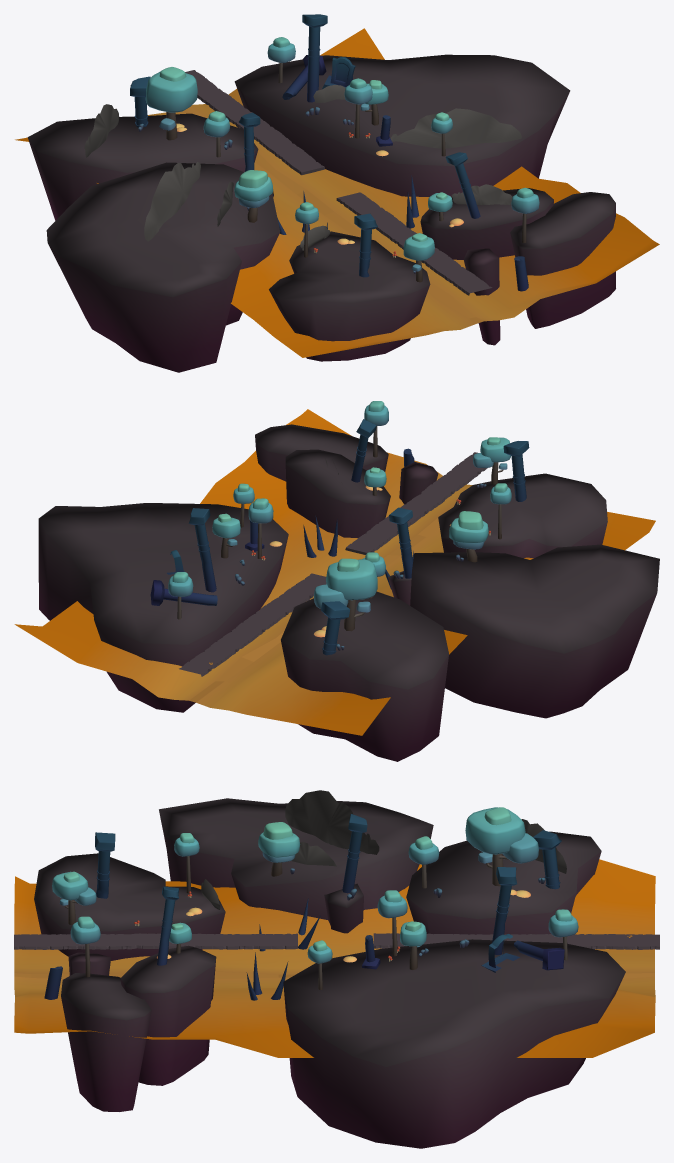
The model's file is stage3wallrun.gltf.
3 views of the same model, one above another, from view 1: azimuth 30°, elevation 25°; view 2: azimuth 150°, elevation 25°; view 3: azimuth 270°, elevation 25° (orthographic). The views are drawn at different scales.
Visible parts, largest first — view 1: stage3wallrun_GEO; view 2: stage3wallrun_GEO; view 3: stage3wallrun_GEO.
Boxes of the visible parts, <box> form: stage3wallrun_GEO: <box>15,14,659,372</box>; stage3wallrun_GEO: <box>14,401,659,761</box>; stage3wallrun_GEO: <box>14,790,659,1148</box>.
Bounding box in the file's own units: 21849 × 7063 × 21000.
2 materials, 2 textured.
